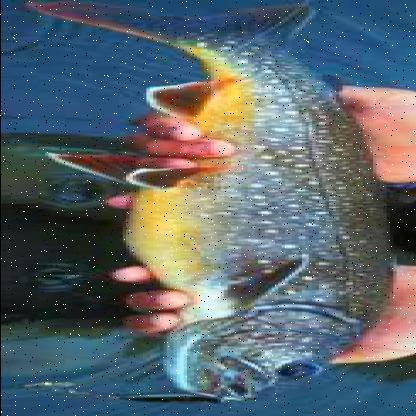fish: (13, 0, 402, 399)
